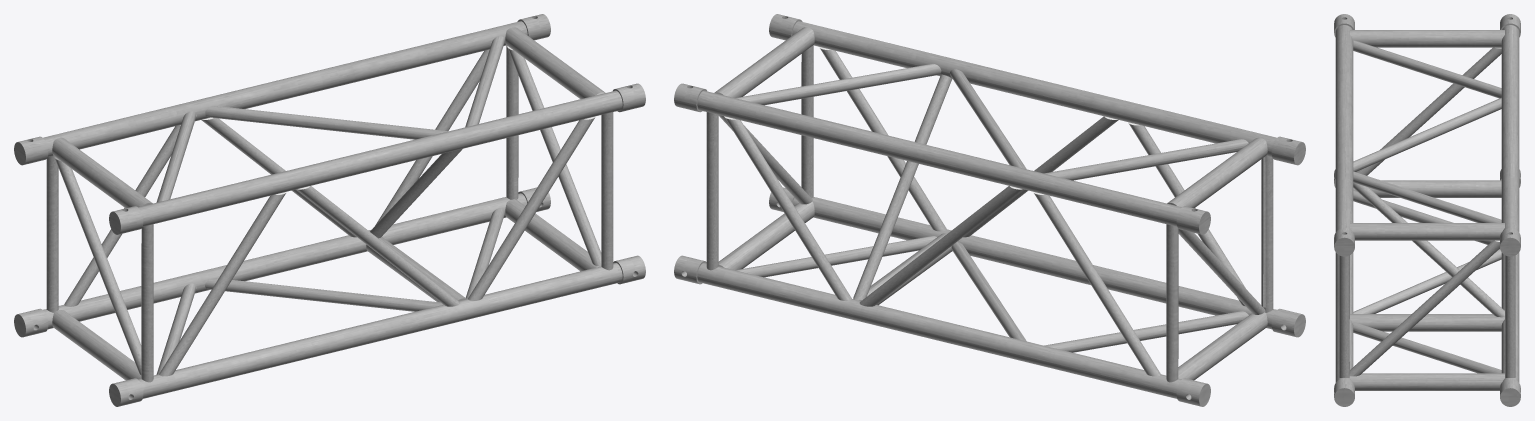
Rendered from Milos_M520_1500_truss_section-6f3cf9fb.glb.
3 views of the same model, side by side, from view 1: azimuth 30°, elevation 25°; view 2: azimuth 150°, elevation 25°; view 3: azimuth 270°, elevation 25° (orthographic). The views are drawn at different scales.
Visible parts, largest first — view 1: Geom3D; view 2: Geom3D; view 3: Geom3D.
Part boxes in pixels (x1,y1,x2,y2): Geom3D: (14, 14, 645, 406); Geom3D: (674, 14, 1305, 406); Geom3D: (1334, 14, 1520, 406).
Bounding box in the file's own units: 1.5 × 0.529 × 0.529.
Materials: 2 (1 with a texture image).
